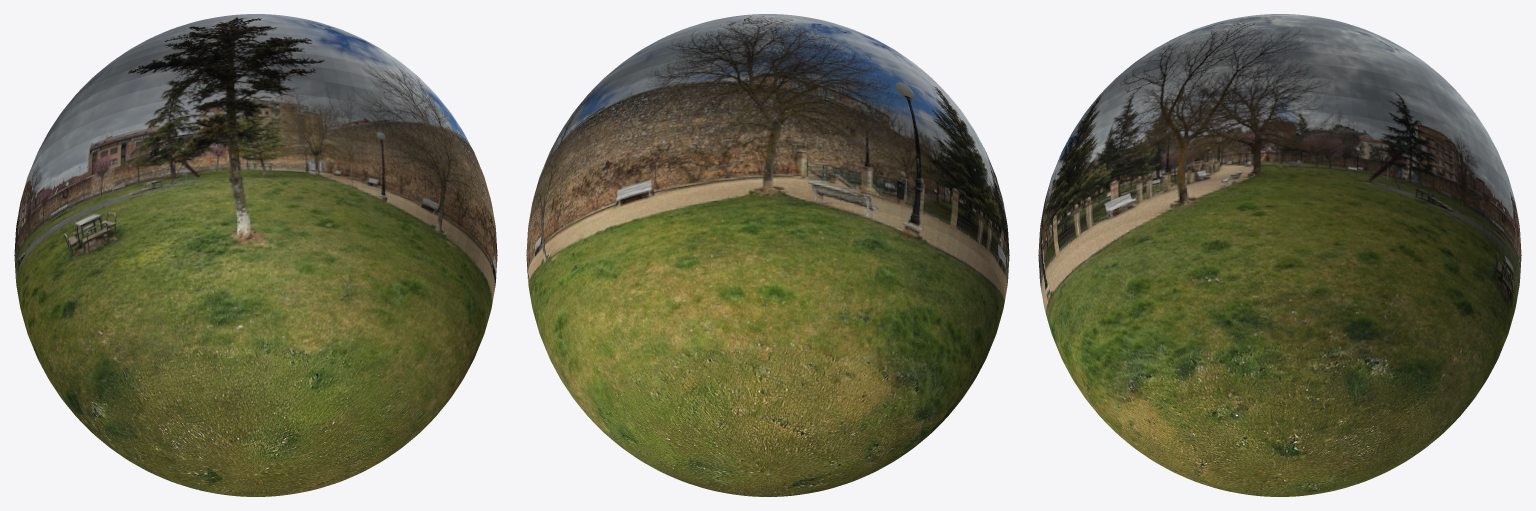
Rendered from building_IJ_360.glb.
3 renders of one model, left to right at view 1: azimuth 30°, elevation 25°; view 2: azimuth 150°, elevation 25°; view 3: azimuth 270°, elevation 25°, orthographic.
Bounding box in the file's own units: 2 × 2 × 2.
1 material, 1 textured.
